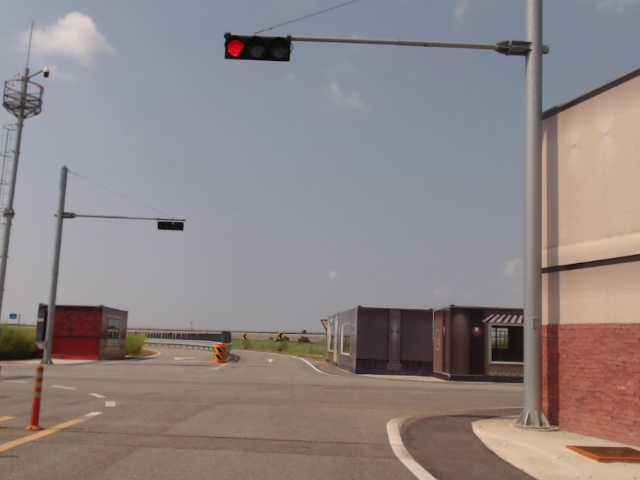red_3: (225, 36, 290, 61)
